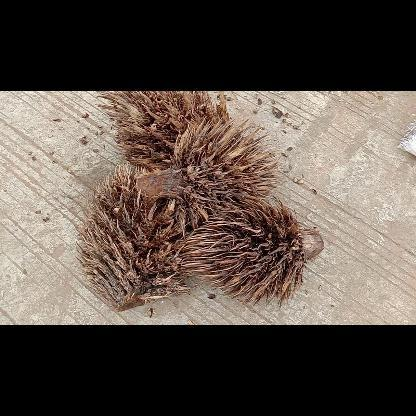Janjang kosong: (76, 160, 214, 312), (178, 198, 324, 308), (96, 91, 230, 171), (169, 114, 281, 200)
